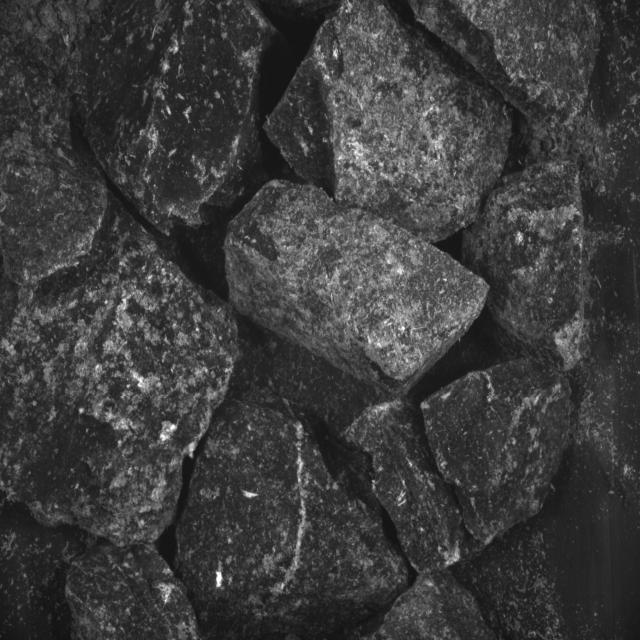Stones: (1, 29, 239, 547), (266, 3, 512, 243), (226, 181, 490, 395), (177, 403, 409, 639), (79, 1, 277, 235), (422, 359, 571, 545), (464, 162, 585, 371), (411, 1, 601, 123), (347, 401, 465, 572), (66, 545, 201, 640), (375, 572, 496, 640)
